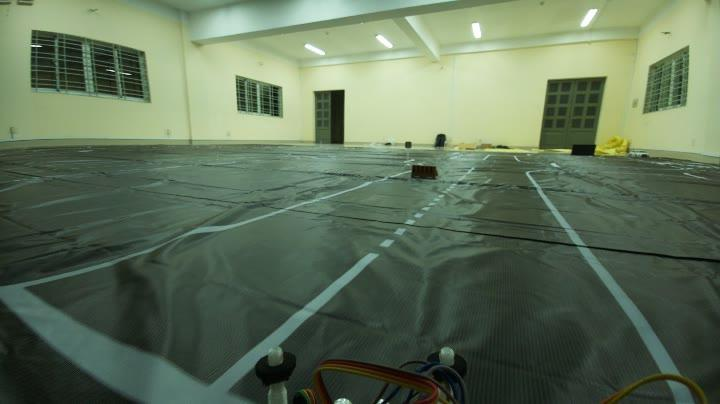roadblock: (406, 162, 442, 180)
